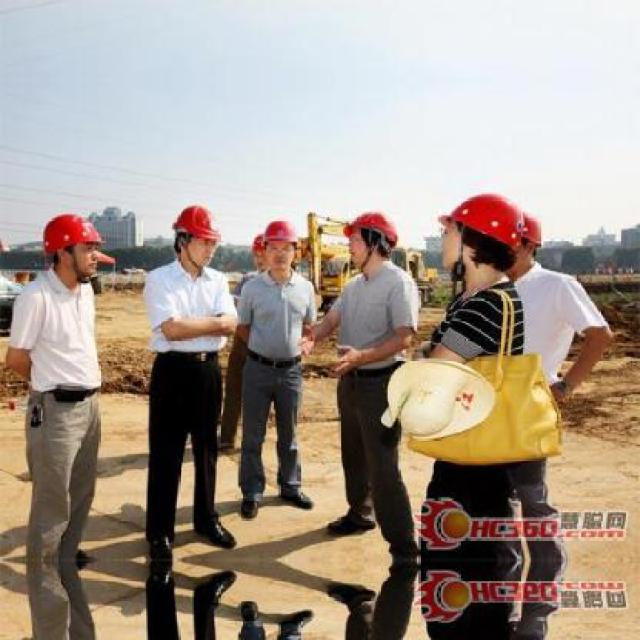helmet: (437, 192, 529, 282), (38, 209, 107, 280), (341, 202, 404, 272), (169, 198, 225, 273), (507, 210, 551, 270), (262, 212, 302, 277), (252, 232, 272, 276)
